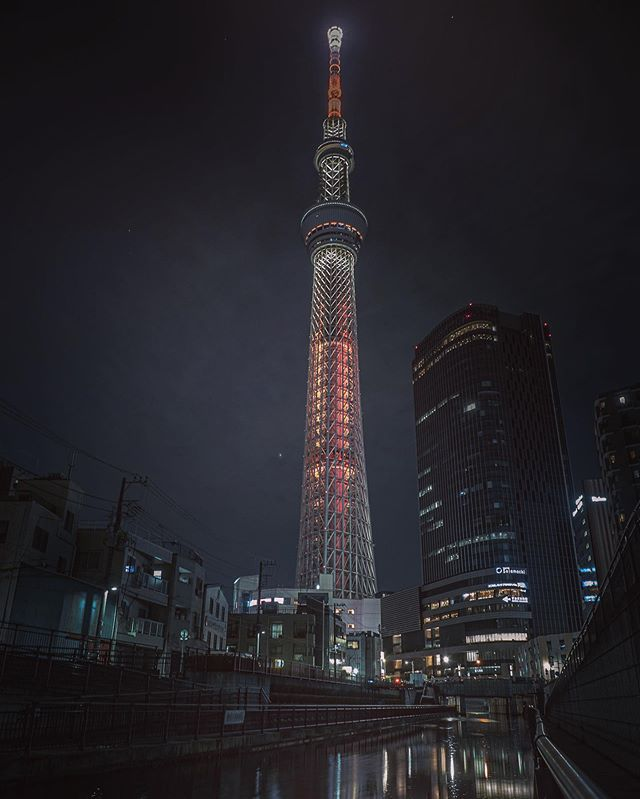building: (392, 304, 586, 652), (279, 1, 381, 620), (69, 521, 240, 661), (1, 485, 96, 677), (231, 569, 361, 688), (595, 381, 640, 567)
river: (95, 711, 528, 799)
sky: (24, 1, 640, 447)
